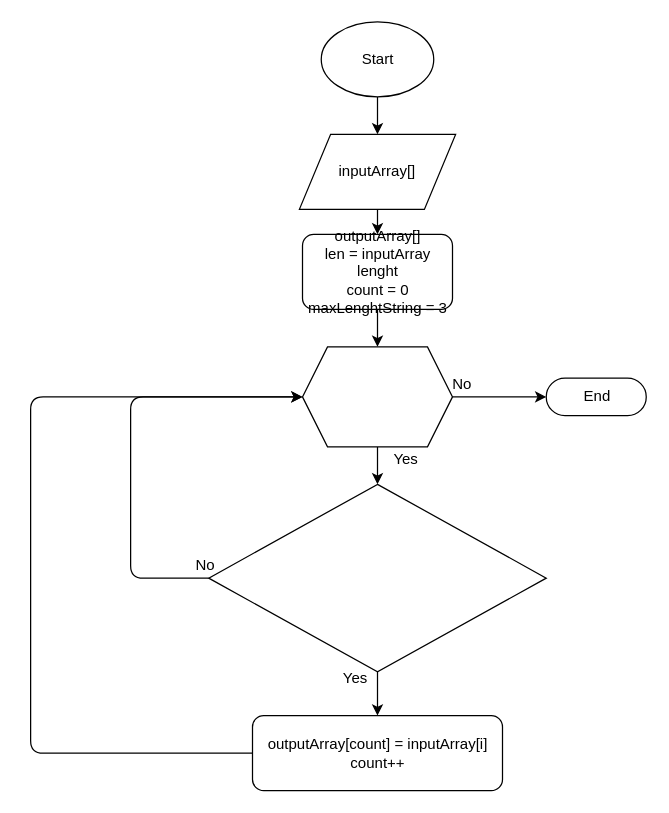
The diagram is 669 pixels wide and 813 high, and some of its shapes have lost their labels. Each missing label, with the box of its shape:
i = 0; i < N i = i + 1: (301, 346, 452, 447)
inputArray[i].lenght <= maxLenghtString: (208, 483, 546, 672)
